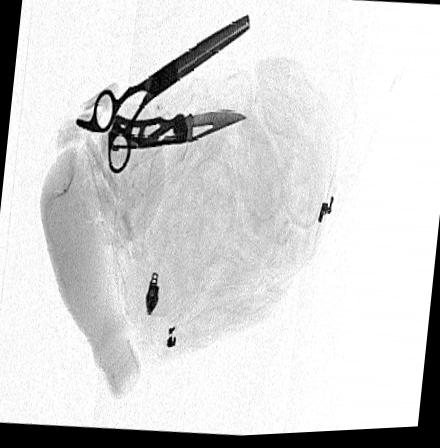Knife: (107, 111, 248, 150)
Scissors: (76, 16, 250, 175)
